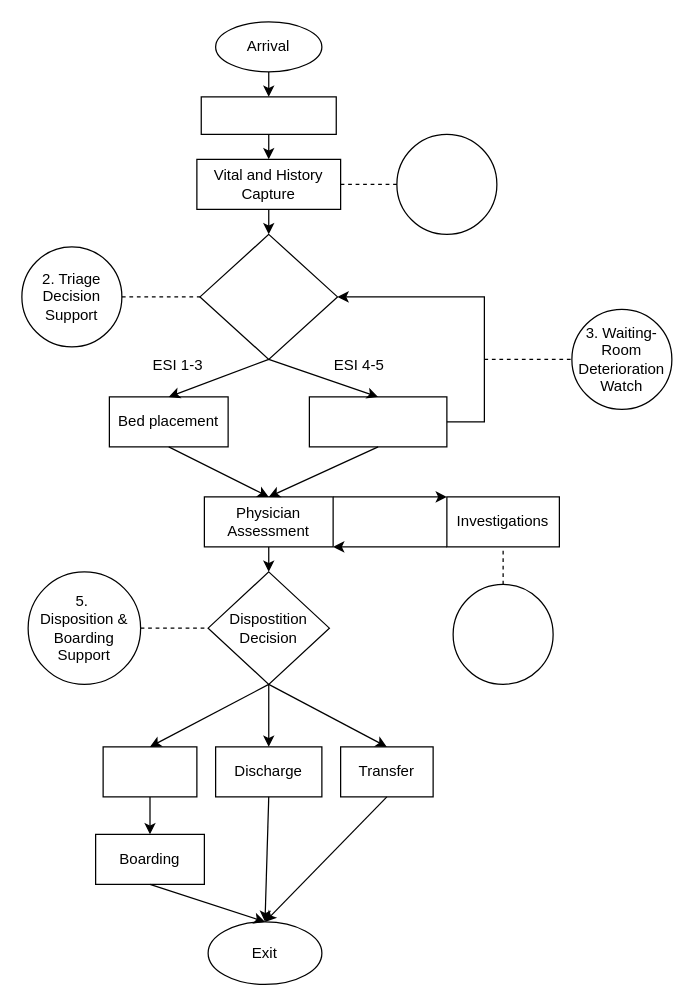
The diagram is 694 pixels wide and 1006 high, and some of its shapes have lost their labels. Each missing label, with the centre of its shape:
1. Paper-to-EHR Capture Assist: pixel 446 183
4. Investigations Prioritization: pixel 502 633
Admit: pixel 149 771
Fast-track/waiting: pixel 377 421
Registration: pixel 268 115
Triage Nurse Assessment: pixel 268 296
